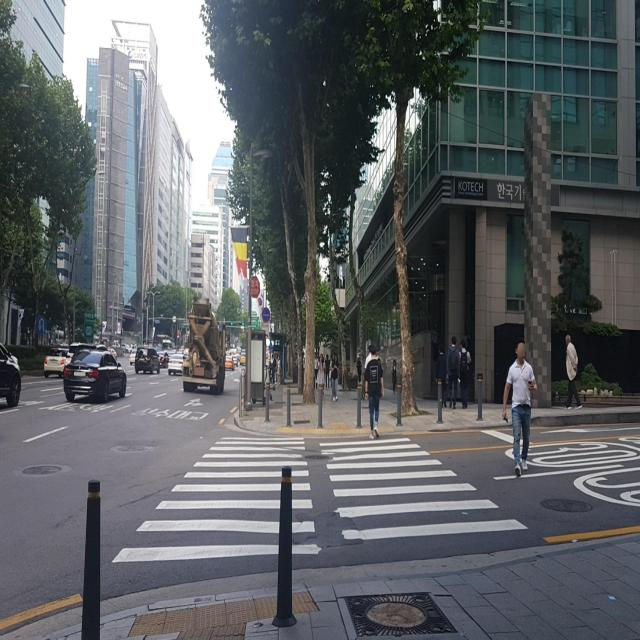횡단보도: (110, 433, 530, 567)
